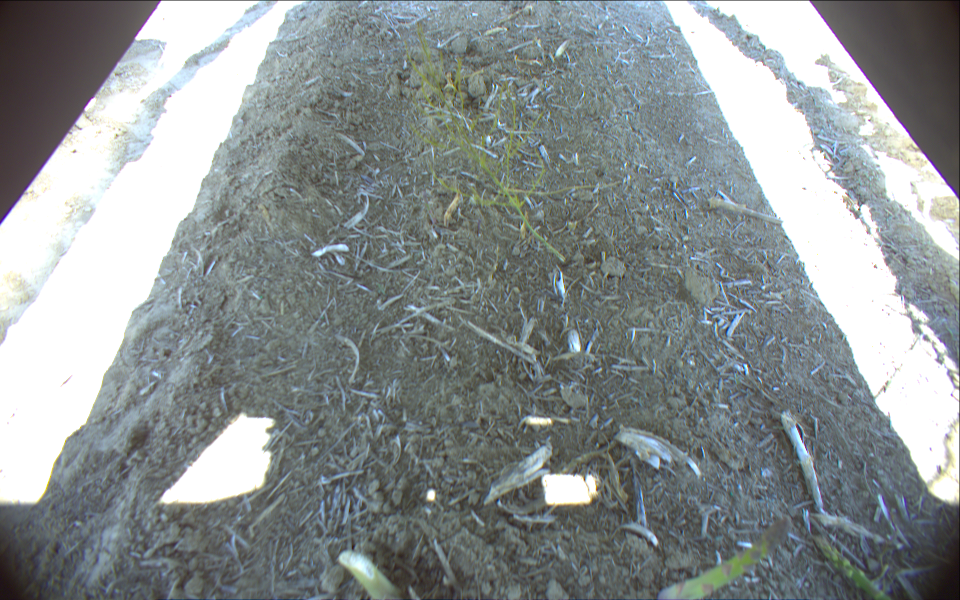aspa: (648, 510, 795, 600)
